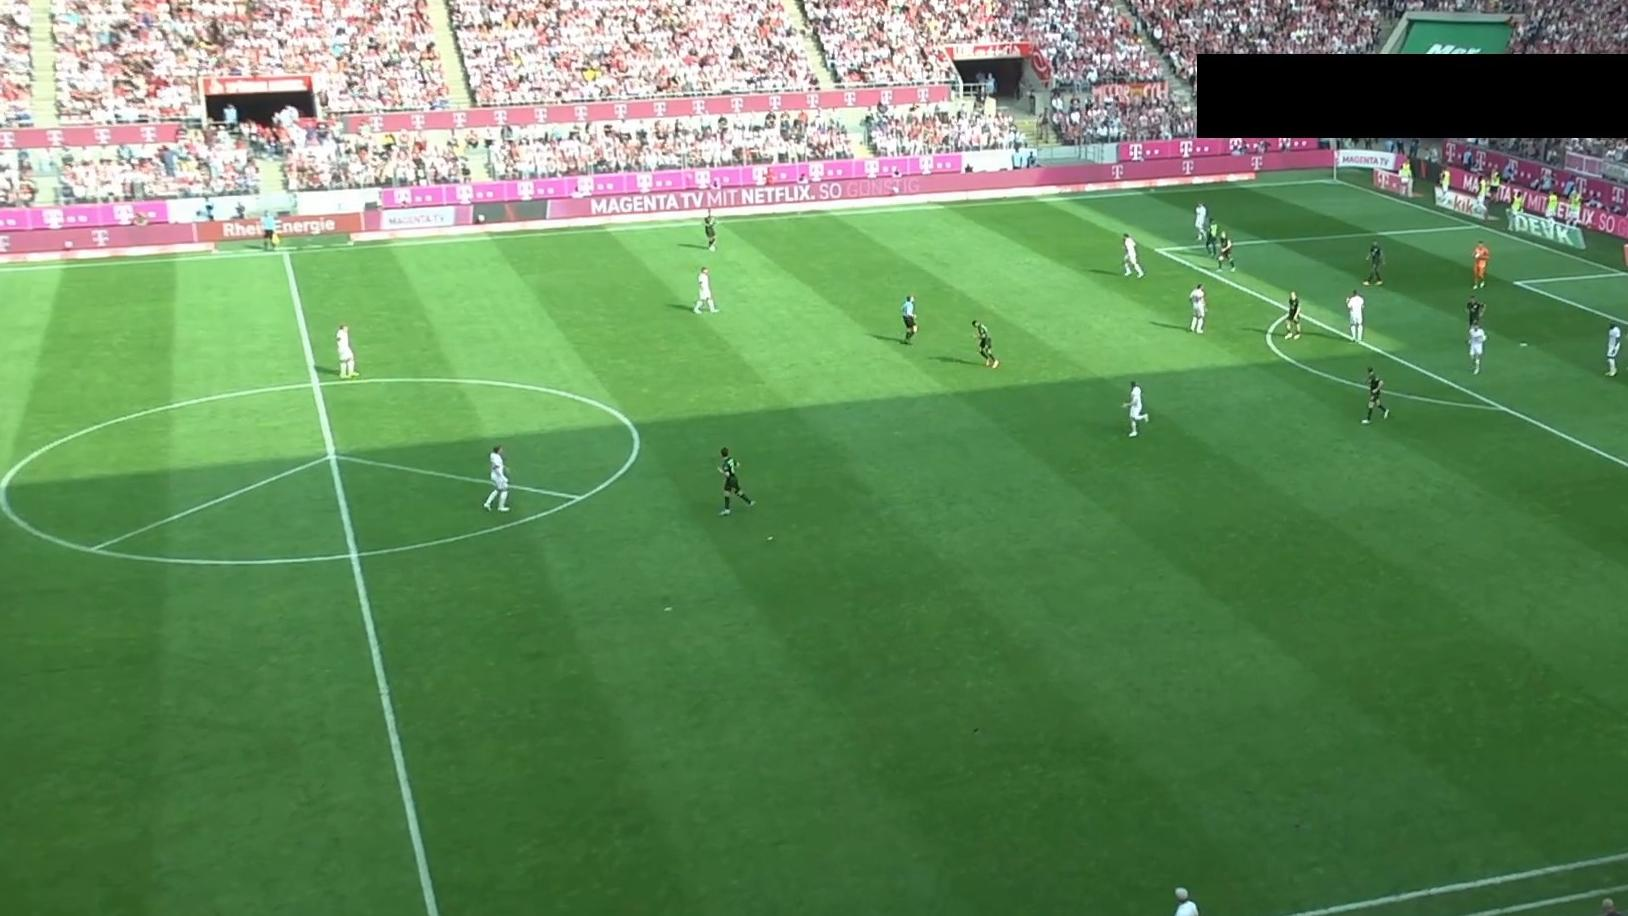ball: (1474, 252, 1482, 259)
